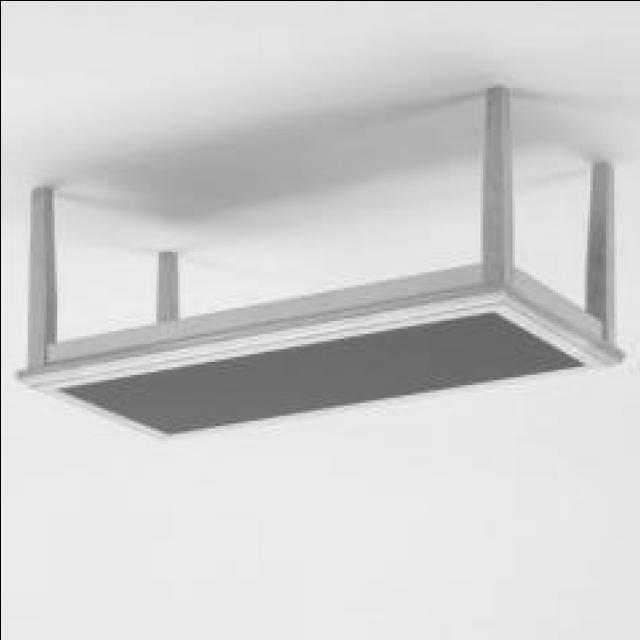table: (16, 86, 624, 443)
